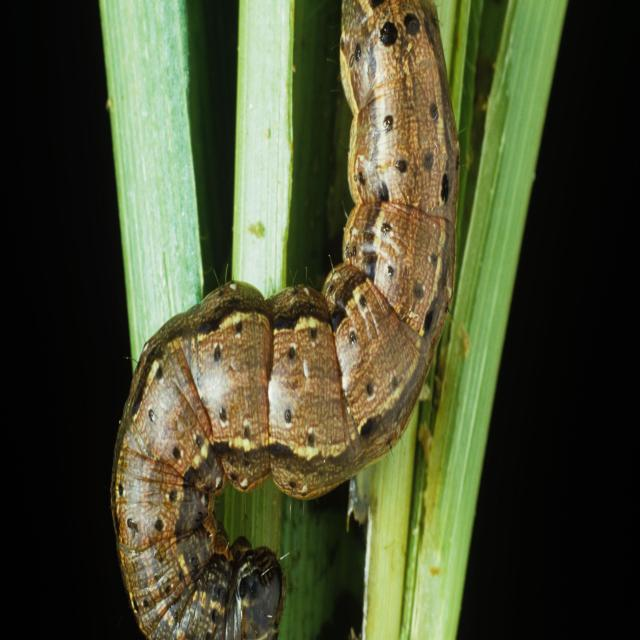worm: (111, 2, 463, 638)
